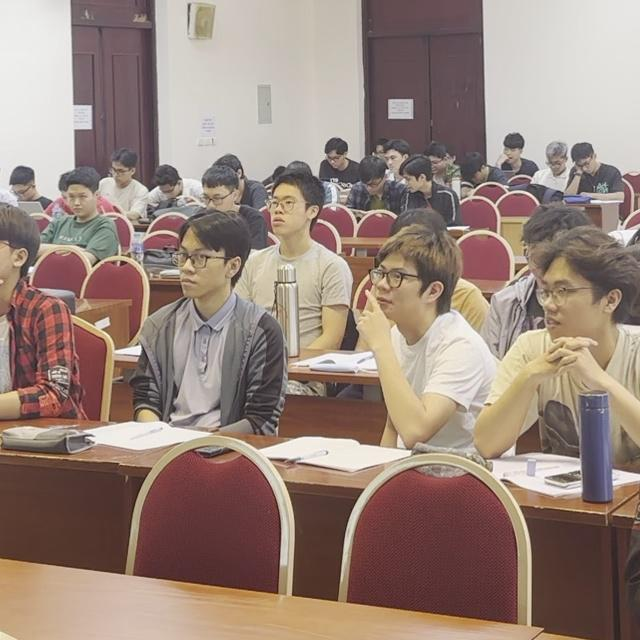Looking away: (203, 183, 232, 214), (110, 162, 132, 188), (360, 175, 386, 195), (383, 147, 403, 172), (574, 156, 598, 175), (464, 167, 489, 185), (12, 184, 38, 201), (325, 150, 346, 170), (547, 153, 565, 175), (157, 182, 180, 199), (501, 145, 523, 162), (403, 174, 420, 193)
Looking forward: (539, 272, 593, 341), (177, 240, 225, 303), (372, 255, 419, 318), (270, 183, 305, 239), (65, 182, 94, 217)
